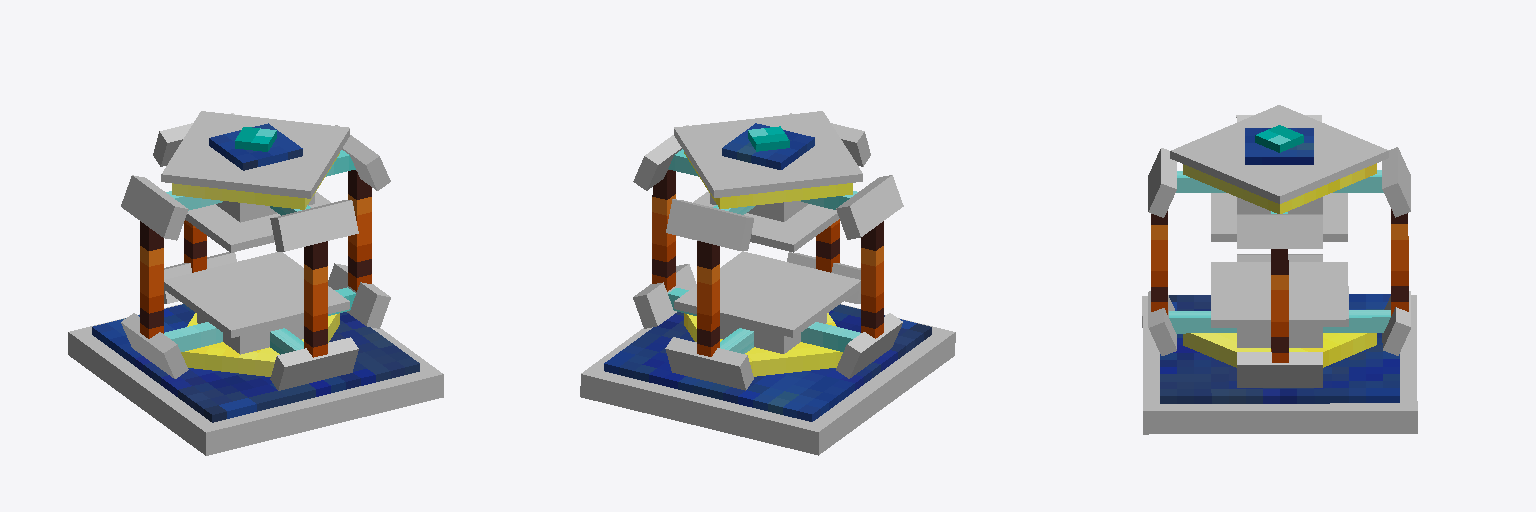
3 views of the same model, side by side, from view 1: azimuth 30°, elevation 25°; view 2: azimuth 150°, elevation 25°; view 3: azimuth 270°, elevation 25° (orthographic).
Visible parts, largest first — view 1: 0, 1, 28, 11, 18, 8, 22, 24, 25, 17, 2, 26 (+14 smaller); view 2: 0, 1, 28, 11, 16, 6, 22, 23, 17, 2, 25, 26 (+14 smaller); view 3: 0, 1, 28, 11, 19, 9, 2, 22, 5, 12, 26, 20 (+11 smaller).
Boxes of the visible parts, box(x1,y1,x2,y2) form: 0: box(68, 304, 443, 455); 1: box(92, 304, 419, 422); 28: box(161, 111, 349, 198); 11: box(164, 252, 349, 337); 18: box(270, 200, 358, 251); 8: box(270, 337, 358, 390); 22: box(185, 192, 330, 252); 24: box(304, 241, 327, 357); 25: box(140, 221, 163, 338); 17: box(121, 175, 188, 240); 2: box(181, 313, 339, 376); 26: box(348, 170, 371, 291); 0: box(580, 304, 955, 455); 1: box(604, 304, 931, 421); 28: box(674, 111, 862, 197); 11: box(674, 251, 860, 337); 16: box(666, 199, 753, 250); 6: box(665, 337, 753, 390); 22: box(693, 191, 839, 252); 23: box(697, 241, 719, 356); 17: box(836, 175, 903, 239); 2: box(684, 313, 842, 376); 25: box(861, 221, 883, 338); 26: box(652, 170, 675, 291); 0: box(1142, 295, 1417, 434); 1: box(1160, 294, 1399, 403); 28: box(1170, 105, 1388, 203); 11: box(1211, 262, 1348, 327); 19: box(1237, 214, 1322, 248); 9: box(1237, 352, 1322, 387); 2: box(1183, 333, 1376, 367); 22: box(1211, 193, 1347, 241); 5: box(1169, 310, 1390, 333); 12: box(1183, 163, 1376, 213); 26: box(1271, 249, 1288, 362); 20: box(1245, 128, 1313, 164).
Size of the model in its own units: 16.03 by 15.53 by 16.03.
6 materials, 4 textured.